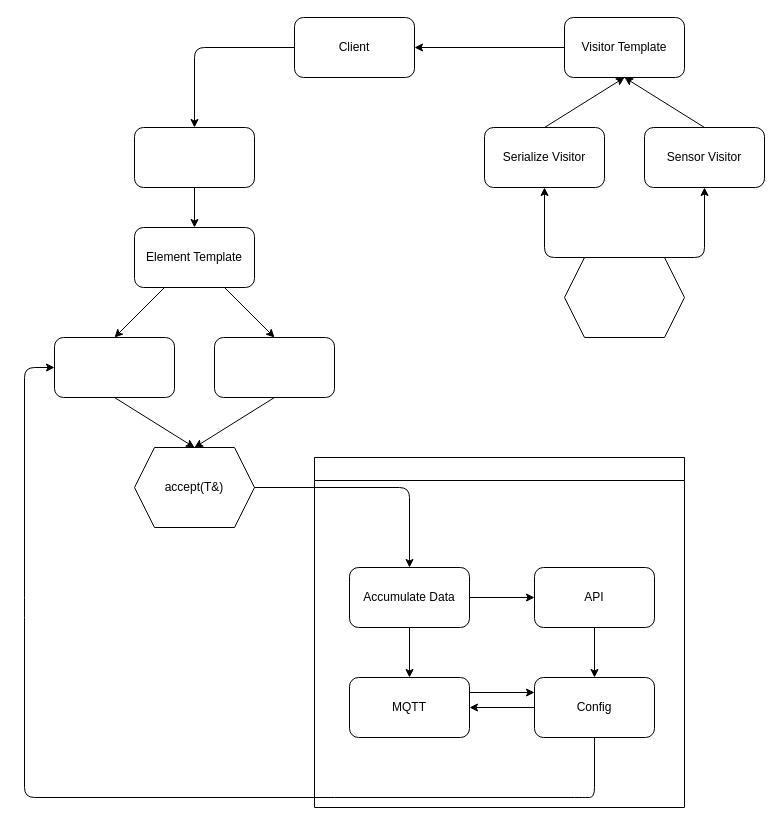
The diagram is 782 pixels wide and 825 high, and some of its shapes have lost their labels. Each missing label, with the centre of its shape:
"Main Loop" goes at point (499, 632).
"NTP" goes at point (274, 367).
"Object Structure" goes at point (194, 157).
"Sensors" goes at point (114, 367).
"visit(T*)" goes at point (624, 297).
